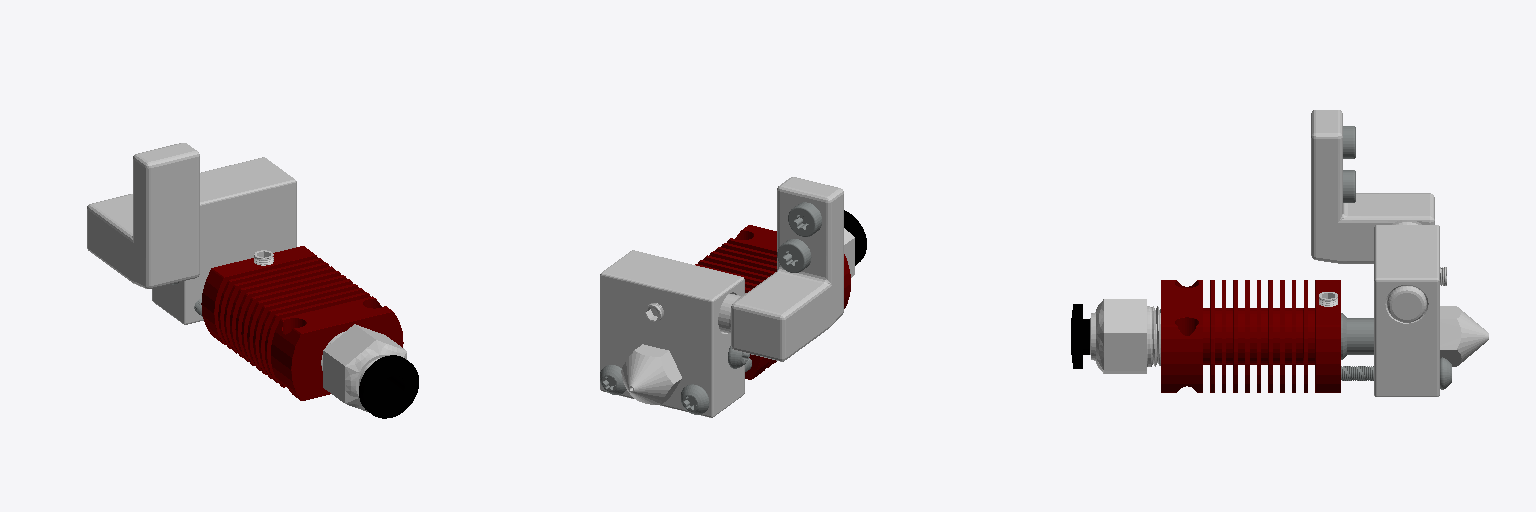
The model's file is Druckkopf.obj.
3 renders of one model, left to right at view 1: azimuth 30°, elevation 25°; view 2: azimuth 150°, elevation 25°; view 3: azimuth 270°, elevation 25°, orthographic.
Parts seen in each view (by area): view 1: Druckkopf_Cylinder.009; view 2: Druckkopf_Cylinder.009; view 3: Druckkopf_Cylinder.009.
Part boxes in pixels (x1,y1,x2,y2): Druckkopf_Cylinder.009: (87,143,418,418); Druckkopf_Cylinder.009: (600,177,866,417); Druckkopf_Cylinder.009: (1071,110,1488,396).
Bounding box in the file's own units: 0.0336 × 0.0352 × 0.065.